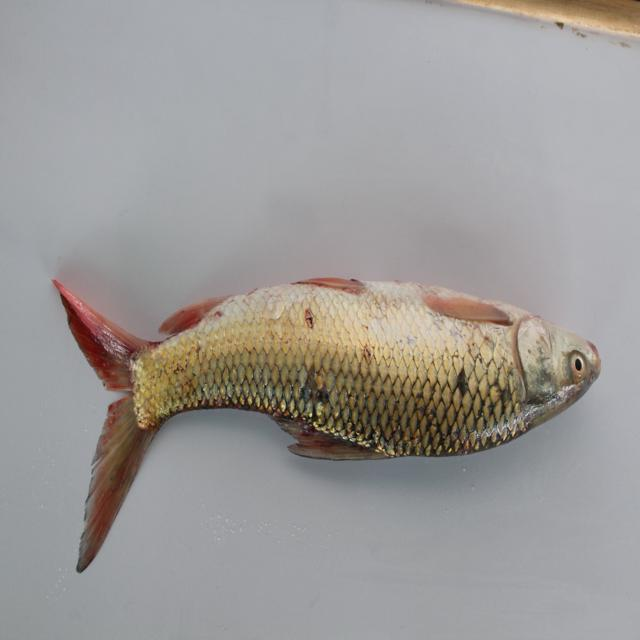Grass Carp: (47, 278, 603, 508)
